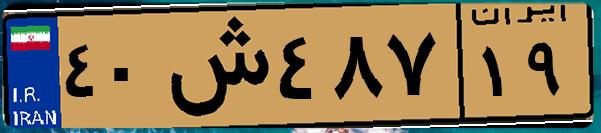0: (110, 28, 158, 98)
1: (475, 38, 525, 113)
4: (270, 28, 330, 110), (57, 26, 110, 100)
7: (385, 28, 445, 110)
8: (330, 28, 385, 110)
9: (525, 38, 570, 115)
ش: (158, 12, 270, 120)
